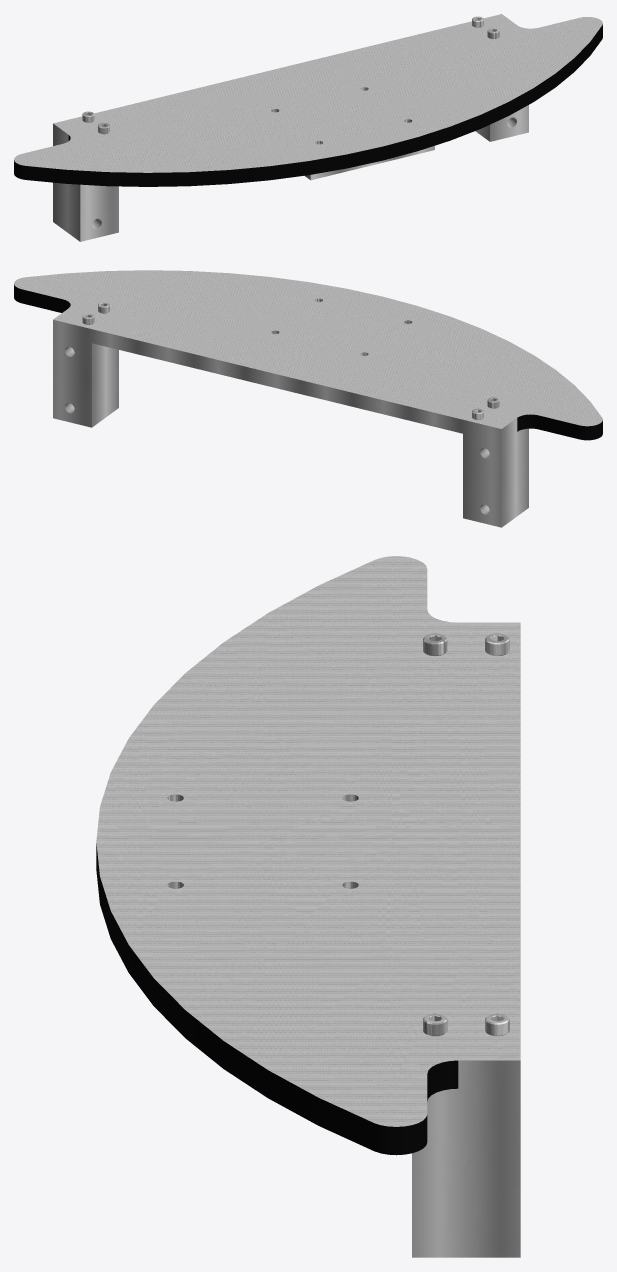
The model's file is caster_plate.dae.
The picture shows the model from 3 angles, top to bottom: view 1: azimuth 30°, elevation 25°; view 2: azimuth 150°, elevation 25°; view 3: azimuth 270°, elevation 25°; orthographic projection. The views are drawn at different scales.
Visible parts, largest first — view 1: _3DGeom_184_Defintion, _3DGeom_180_Defintion, SketchUp (×2); view 2: _3DGeom_184_Defintion, SketchUp, _3DGeom_180_Defintion (×3); view 3: _3DGeom_184_Defintion, SketchUp, _3DGeom_180_Defintion (×2).
Boxes of the visible parts, left/top/right/bottom form: _3DGeom_184_Defintion: left=14, top=14, right=602, bottom=172; _3DGeom_180_Defintion: left=14, top=24, right=602, bottom=186; SketchUp (×2): left=53, top=105, right=528, bottom=241; _3DGeom_184_Defintion: left=14, top=270, right=602, bottom=428; SketchUp: left=53, top=319, right=528, bottom=527; _3DGeom_180_Defintion (×3): left=14, top=284, right=602, bottom=440; _3DGeom_184_Defintion: left=96, top=556, right=520, bottom=1126; SketchUp: left=412, top=1060, right=520, bottom=1257; _3DGeom_180_Defintion (×2): left=96, top=843, right=458, bottom=1155.
Bounding box in the file's own units: 21.72 × 6.82 × 3.74.
Materials: 4 (2 with a texture image).
